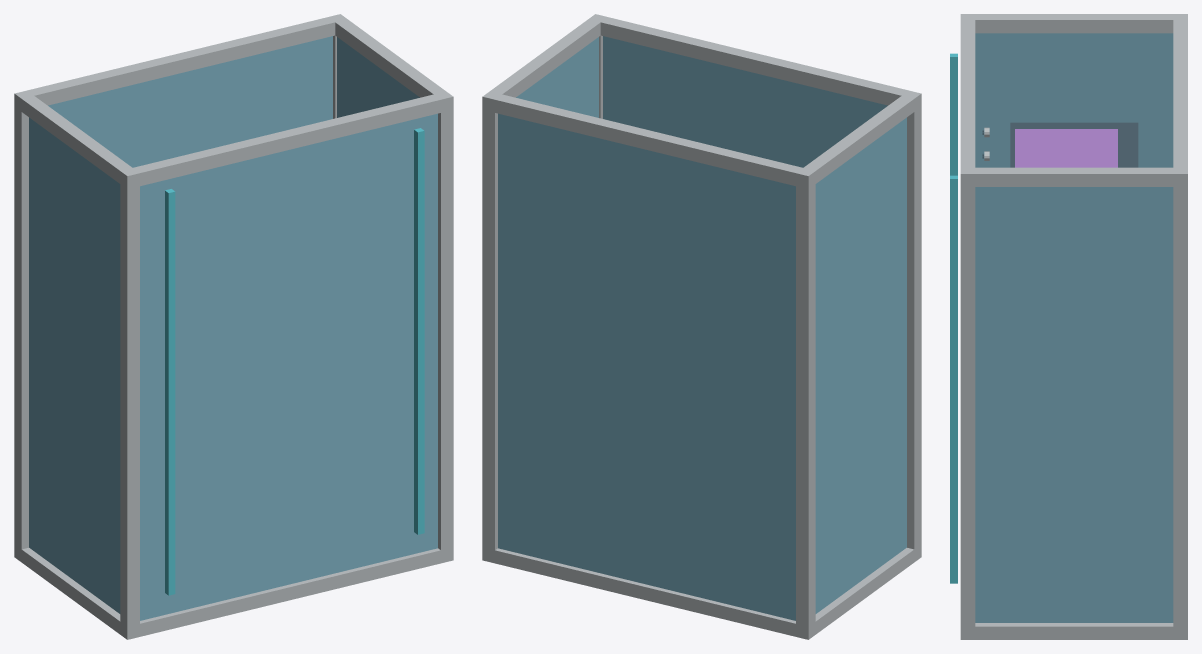
File: 18_L74_PrecisionReticleStorageCassette.glb
The picture shows the model from 3 angles, left to right: view 1: azimuth 30°, elevation 25°; view 2: azimuth 150°, elevation 25°; view 3: azimuth 270°, elevation 25°; orthographic projection.
Parts seen in each view (by area): view 1: PrecisionReticleStorageCassette_Node_0013, PrecisionReticleStorageCassette_Node_0014, PrecisionReticleStorageCassette_Node_0012, PrecisionReticleStorageCassette_Node_0001, PrecisionReticleStorageCassette_Node_0003, PrecisionReticleStorageCassette_Node_0000, PrecisionReticleStorageCassette_Node_0009, PrecisionReticleStorageCassette_Node_0008, PrecisionReticleStorageCassette_Node_0005, PrecisionReticleStorageCassette_Node_0129, PrecisionReticleStorageCassette_Node_0128, PrecisionReticleStorageCassette_Node_0015 (+3 smaller); view 2: PrecisionReticleStorageCassette_Node_0012, PrecisionReticleStorageCassette_Node_0014, PrecisionReticleStorageCassette_Node_0013, PrecisionReticleStorageCassette_Node_0000, PrecisionReticleStorageCassette_Node_0002, PrecisionReticleStorageCassette_Node_0001, PrecisionReticleStorageCassette_Node_0008, PrecisionReticleStorageCassette_Node_0009, PrecisionReticleStorageCassette_Node_0004, PrecisionReticleStorageCassette_Node_0015, PrecisionReticleStorageCassette_Node_0010, PrecisionReticleStorageCassette_Node_0011 (+1 smaller); view 3: PrecisionReticleStorageCassette_Node_0015, PrecisionReticleStorageCassette_Node_0014, PrecisionReticleStorageCassette_Node_0003, PrecisionReticleStorageCassette_Node_0002, PrecisionReticleStorageCassette_Node_0011, PrecisionReticleStorageCassette_Node_0010, PrecisionReticleStorageCassette_Node_0121, PrecisionReticleStorageCassette_Node_0007, PrecisionReticleStorageCassette_Node_0129, PrecisionReticleStorageCassette_Node_0009, PrecisionReticleStorageCassette_Node_0008, PrecisionReticleStorageCassette_Node_0120 (+1 smaller).
Boxes of the visible parts, bbox=[...] form: PrecisionReticleStorageCassette_Node_0013: bbox=[140, 113, 437, 620]; PrecisionReticleStorageCassette_Node_0014: bbox=[29, 117, 120, 613]; PrecisionReticleStorageCassette_Node_0012: bbox=[48, 36, 332, 167]; PrecisionReticleStorageCassette_Node_0001: bbox=[120, 168, 139, 639]; PrecisionReticleStorageCassette_Node_0003: bbox=[434, 91, 453, 563]; PrecisionReticleStorageCassette_Node_0000: bbox=[14, 90, 33, 561]; PrecisionReticleStorageCassette_Node_0009: bbox=[120, 92, 453, 186]; PrecisionReticleStorageCassette_Node_0008: bbox=[14, 14, 346, 110]; PrecisionReticleStorageCassette_Node_0005: bbox=[120, 547, 453, 639]; PrecisionReticleStorageCassette_Node_0129: bbox=[414, 128, 424, 534]; PrecisionReticleStorageCassette_Node_0128: bbox=[165, 189, 175, 595]; PrecisionReticleStorageCassette_Node_0015: bbox=[337, 37, 419, 117]; PrecisionReticleStorageCassette_Node_0012: bbox=[498, 113, 795, 620]; PrecisionReticleStorageCassette_Node_0014: bbox=[815, 117, 906, 613]; PrecisionReticleStorageCassette_Node_0013: bbox=[603, 36, 887, 167]; PrecisionReticleStorageCassette_Node_0000: bbox=[796, 168, 815, 639]; PrecisionReticleStorageCassette_Node_0002: bbox=[482, 91, 501, 562]; PrecisionReticleStorageCassette_Node_0001: bbox=[902, 91, 921, 562]; PrecisionReticleStorageCassette_Node_0008: bbox=[482, 92, 815, 188]; PrecisionReticleStorageCassette_Node_0009: bbox=[589, 14, 921, 110]; PrecisionReticleStorageCassette_Node_0004: bbox=[482, 548, 815, 638]; PrecisionReticleStorageCassette_Node_0015: bbox=[516, 37, 598, 117]; PrecisionReticleStorageCassette_Node_0010: bbox=[796, 91, 920, 188]; PrecisionReticleStorageCassette_Node_0011: bbox=[483, 15, 605, 111]; PrecisionReticleStorageCassette_Node_0015: bbox=[975, 187, 1173, 622]; PrecisionReticleStorageCassette_Node_0014: bbox=[975, 33, 1173, 167]; PrecisionReticleStorageCassette_Node_0003: bbox=[960, 167, 975, 639]; PrecisionReticleStorageCassette_Node_0002: bbox=[1173, 167, 1187, 639]; PrecisionReticleStorageCassette_Node_0011: bbox=[961, 167, 1187, 186]; PrecisionReticleStorageCassette_Node_0010: bbox=[961, 14, 1187, 33]; PrecisionReticleStorageCassette_Node_0121: bbox=[1015, 129, 1117, 167]; PrecisionReticleStorageCassette_Node_0007: bbox=[962, 623, 1187, 639]; PrecisionReticleStorageCassette_Node_0129: bbox=[950, 175, 957, 583]; PrecisionReticleStorageCassette_Node_0009: bbox=[960, 14, 975, 186]; PrecisionReticleStorageCassette_Node_0008: bbox=[1173, 14, 1187, 186]; PrecisionReticleStorageCassette_Node_0120: bbox=[1010, 122, 1138, 167].
Bounding box in the file's own units: 1.95 × 2.65 × 1.22.
